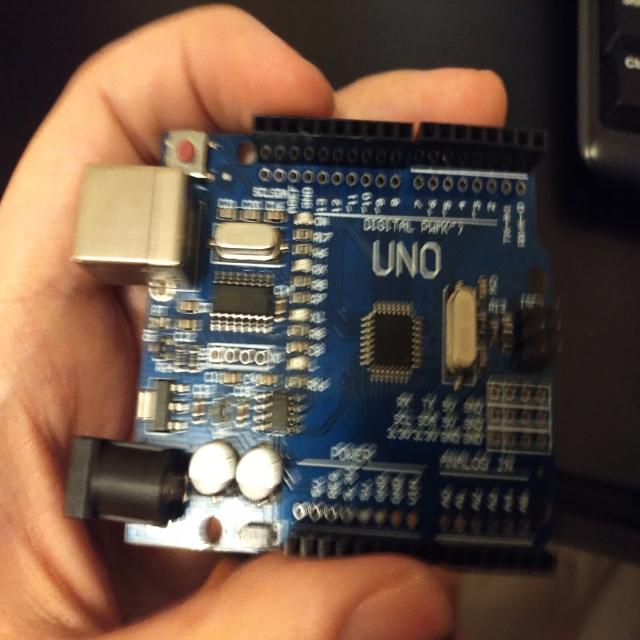arduino: (74, 110, 560, 580)
